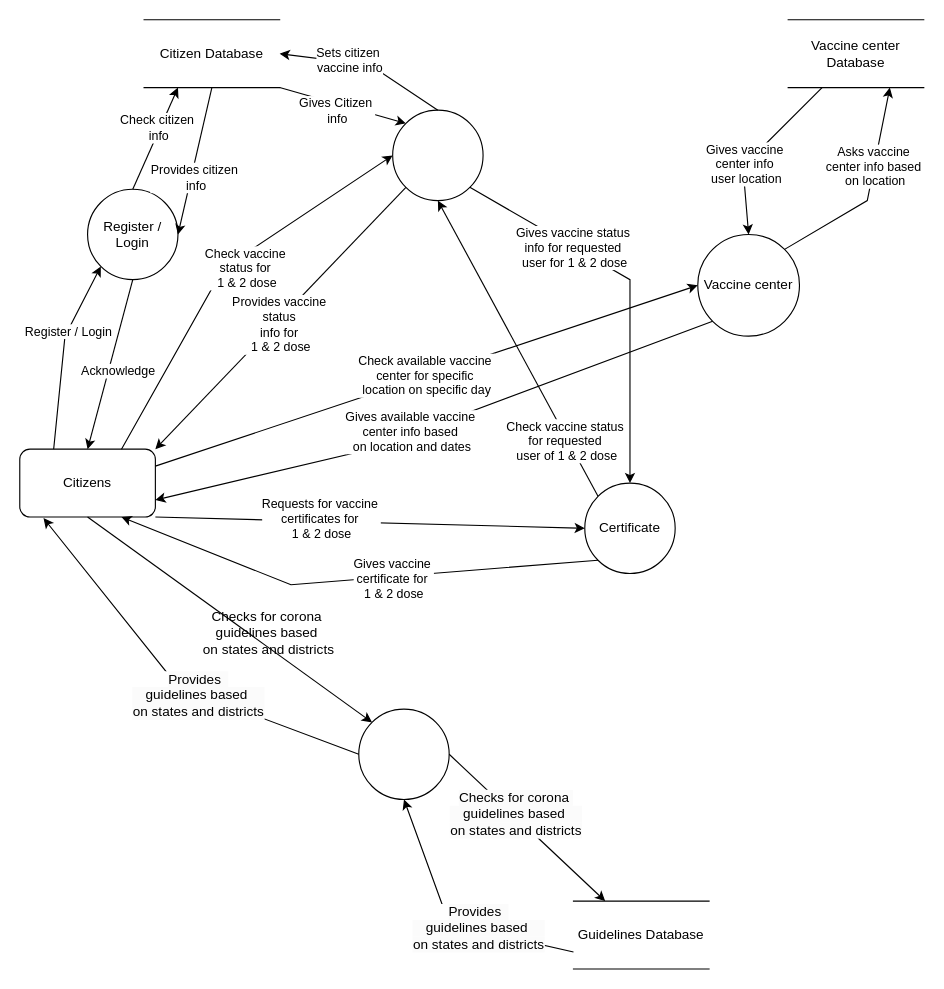
Image size: 944x989. Some labels were removed from this diagram. Here are the shapes that lost their labels. From the top down, the centre of each, then its label:
[437,155]: Vaccine status
[403,753]: Guideline center
